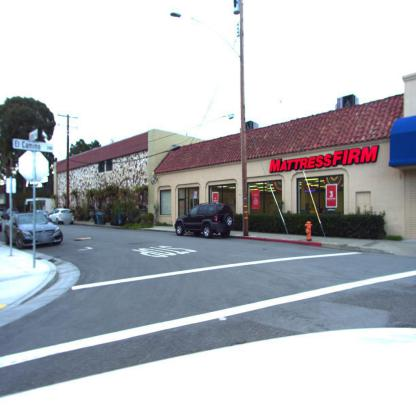car: (7, 212, 64, 250), (174, 202, 235, 237), (48, 208, 74, 224)
fire hydrant: (305, 222, 313, 240)
